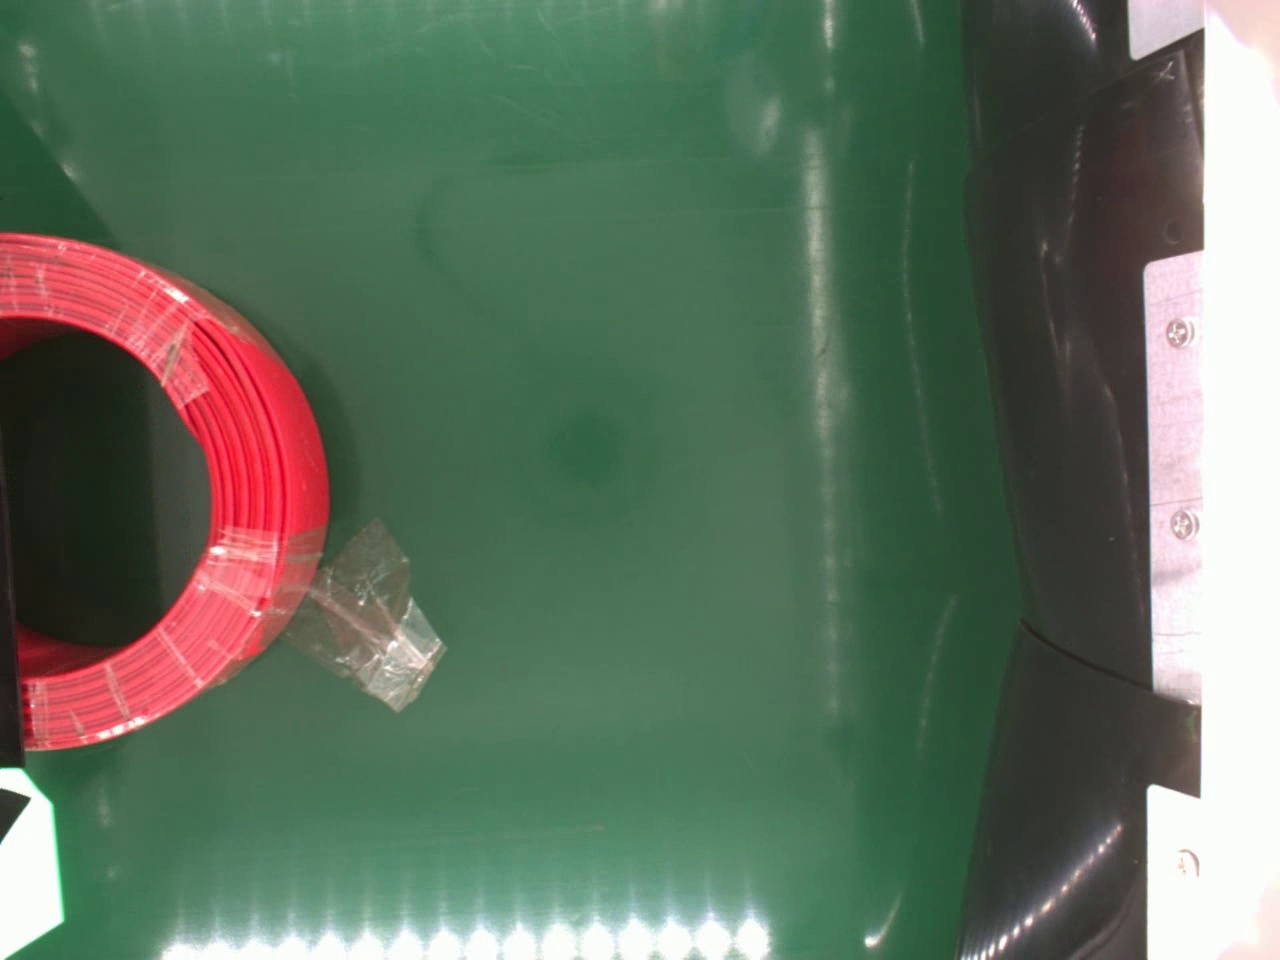red: (0, 227, 331, 743)
